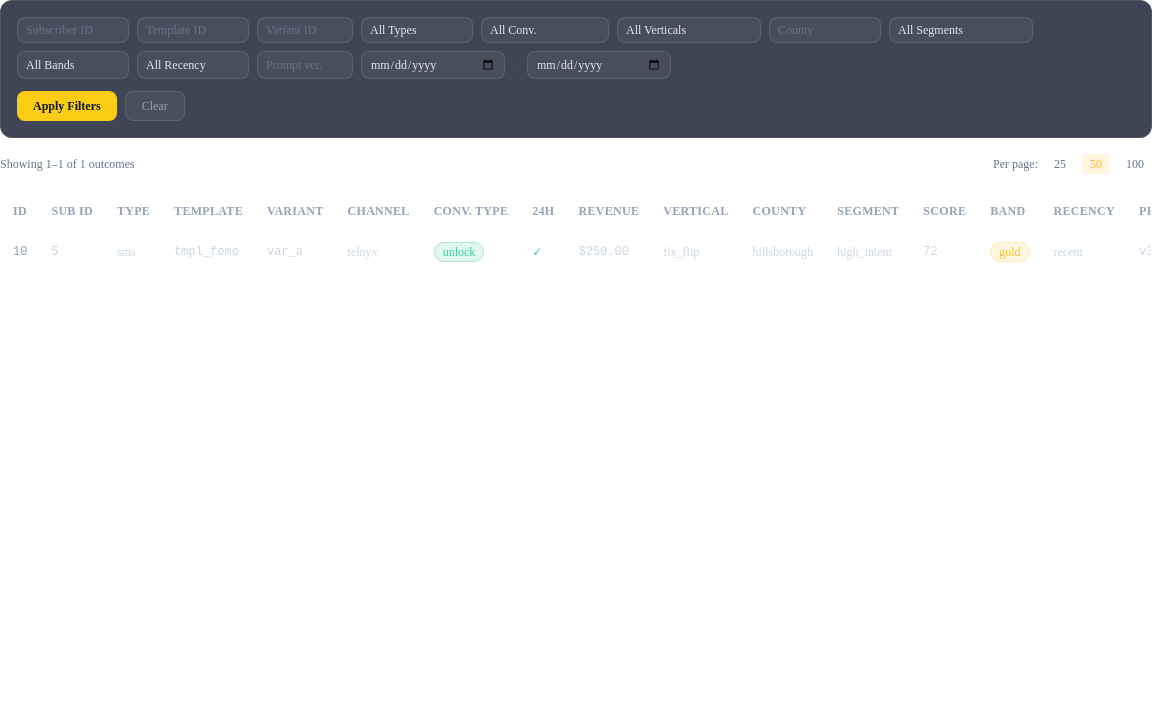
it: SmsOutcomesDashboard — detail modal › shows context_snapshot in detail modal
Click the text "hillsborough". click: (783, 252)
box: [741,232,825,272]
(page scrolled)
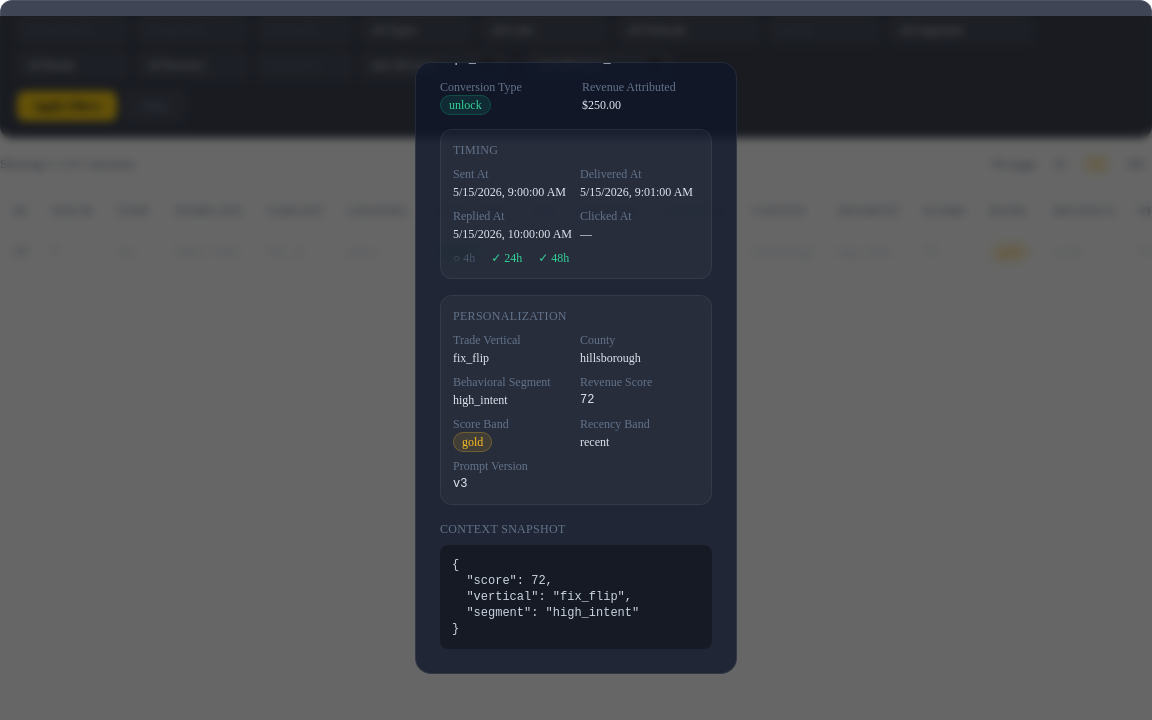
Expected: the text "Context Snapshot" is shown, [440,522,566,536]
